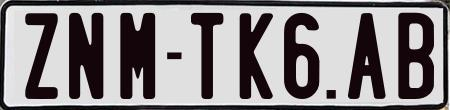6: (282, 12, 317, 101)
A: (348, 11, 391, 99)
B: (395, 10, 435, 102)
K: (239, 13, 277, 103)
M: (118, 13, 154, 99)
N: (67, 11, 107, 101)
T: (190, 10, 222, 100)
Z: (22, 12, 61, 100)
